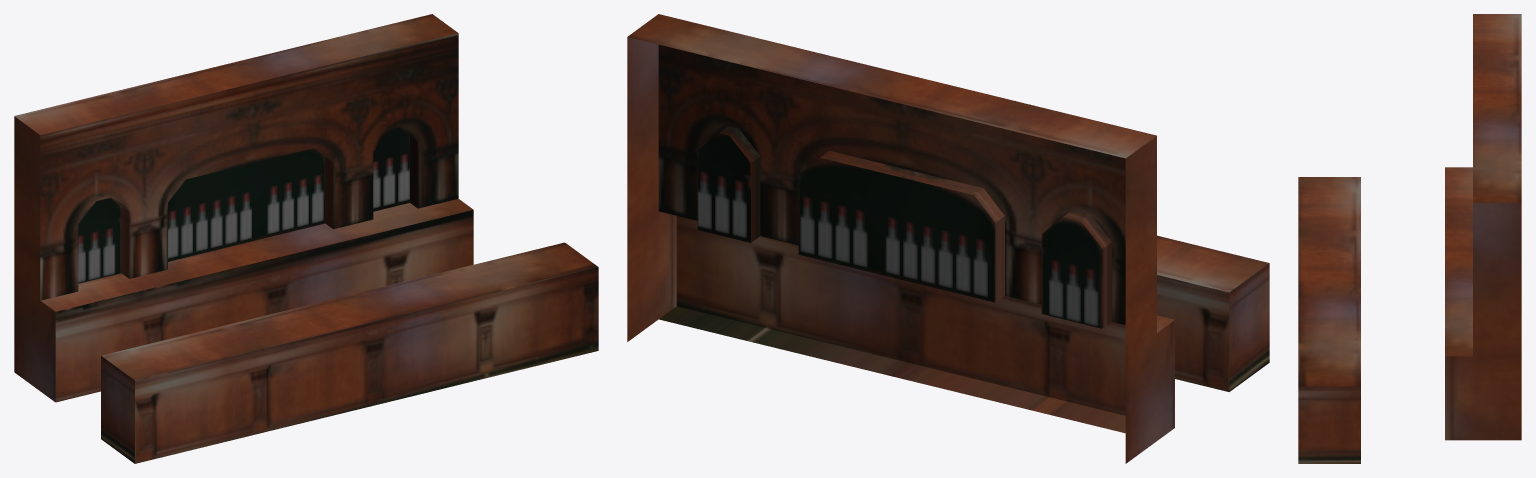
Rendered from bunker_bar.FBX.
3 views of the same model, side by side, from view 1: azimuth 30°, elevation 25°; view 2: azimuth 150°, elevation 25°; view 3: azimuth 270°, elevation 25° (orthographic). The views are drawn at different scales.
Parts seen in each view (by area): view 1: bunker_bar; view 2: bunker_bar; view 3: bunker_bar.
Boxes of the visible parts, bbox=[...] form: bunker_bar: bbox=[14, 14, 598, 463]; bunker_bar: bbox=[627, 14, 1269, 463]; bunker_bar: bbox=[1298, 14, 1521, 463].
Bounding box in the file's own units: 279 × 149 × 126.
